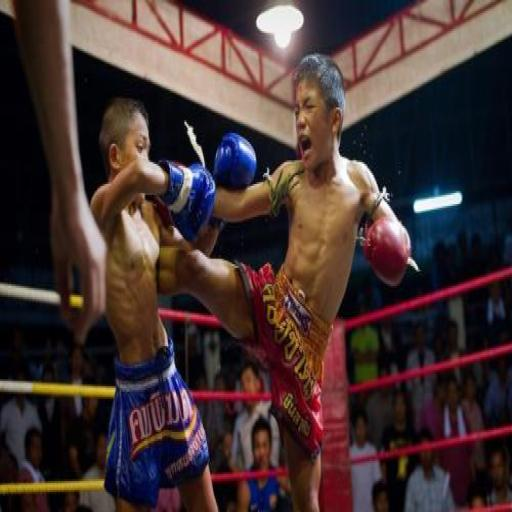boxing: (136, 51, 419, 508), (51, 73, 319, 512)
